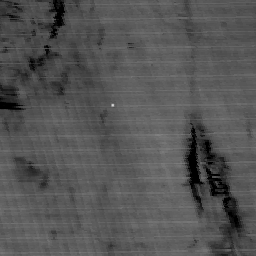Target: (109, 101, 116, 109)
